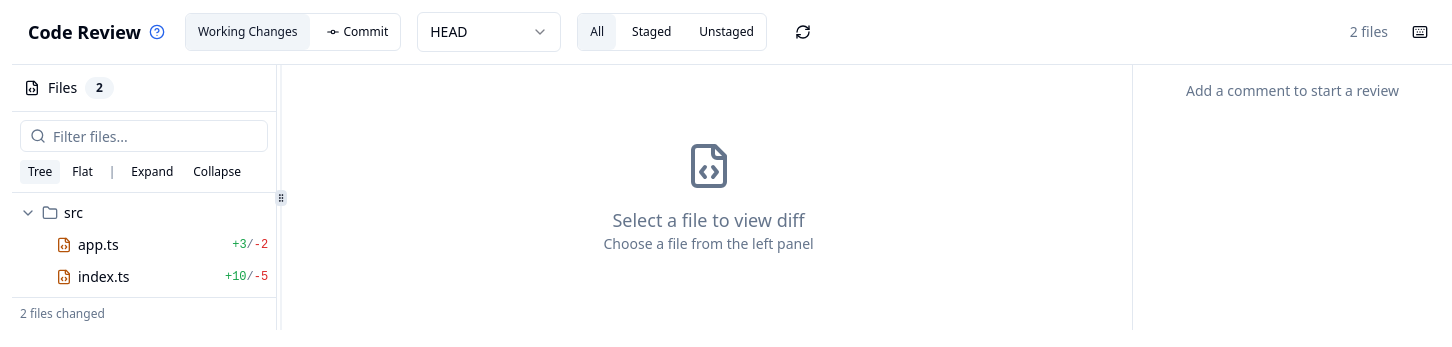
Scenario: ReviewsPage › switches to commit mode when Commit button clicked
# Switch to commit mode - verify mode can be changed
Click the radio button labelled "Commit" at (357, 32), box [314,14,400,50]
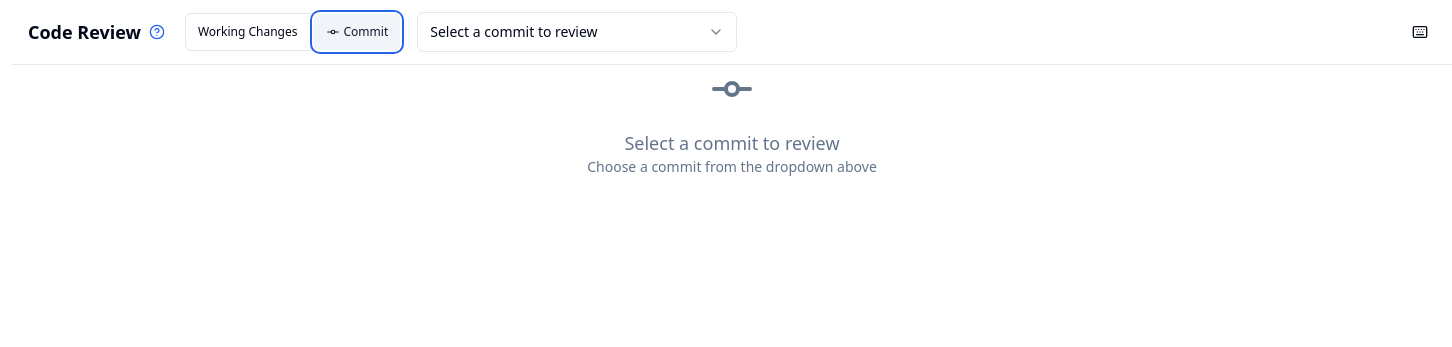
Result: the radio button labelled "Staged" is gone
